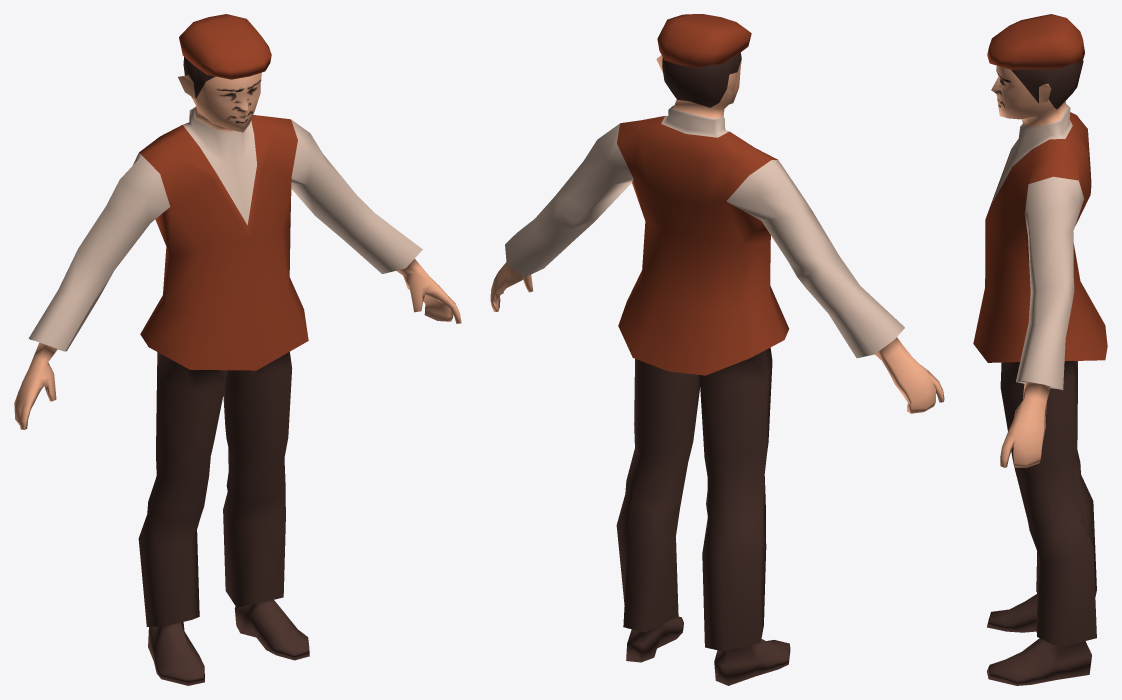
Rendered from Char.fbx.
3 views of the same model, side by side, from view 1: azimuth 30°, elevation 25°; view 2: azimuth 150°, elevation 25°; view 3: azimuth 270°, elevation 25° (orthographic).
Visible parts, largest first — view 1: Char; view 2: Char; view 3: Char.
Part boxes in pixels (left/top/right/bottom): Char: left=14, top=14, right=461, bottom=685; Char: left=490, top=14, right=944, bottom=685; Char: left=973, top=14, right=1107, bottom=685.
Size of the model in its own units: 120 by 163 by 31.7.
Materials: 1 (1 with a texture image).
